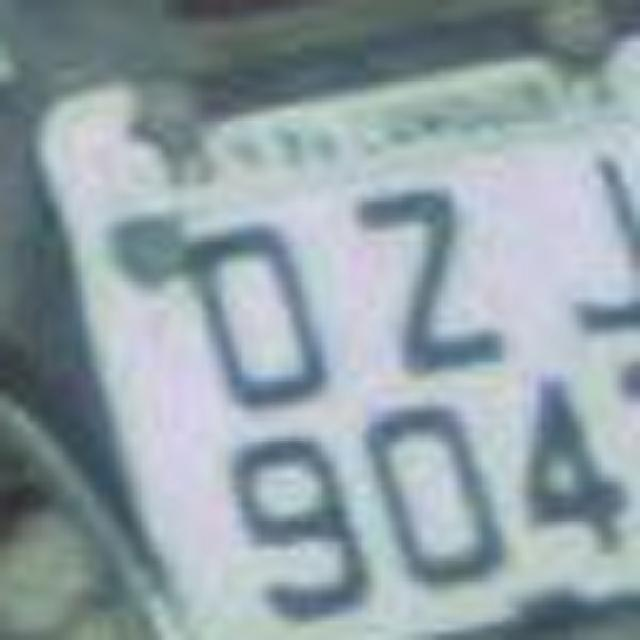0: (324, 368, 556, 608)
4: (1, 1, 2, 1)
9: (208, 404, 388, 631)
L: (532, 120, 632, 335)
O: (132, 200, 352, 412)
Z: (336, 176, 516, 364)
